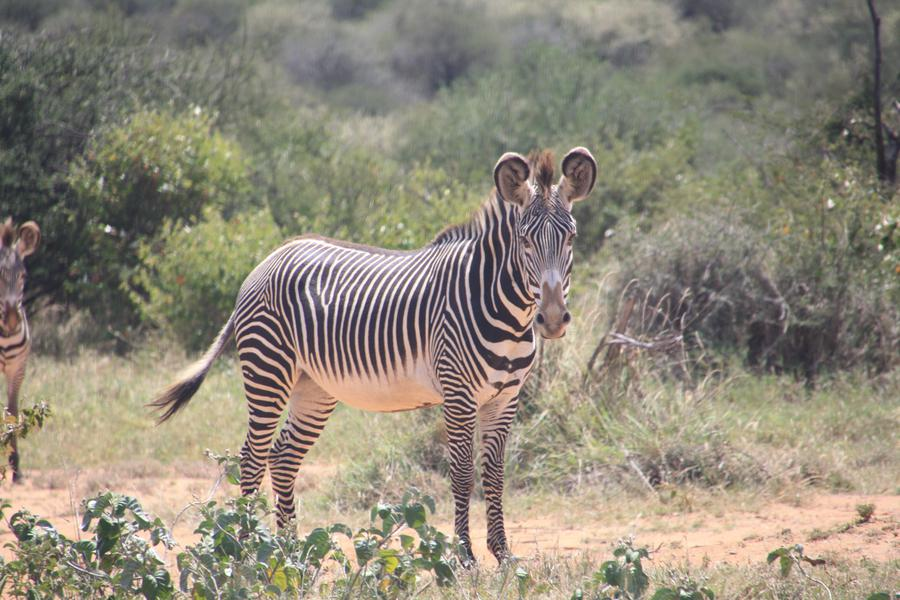zebra_grevys: (225, 225, 500, 400)
